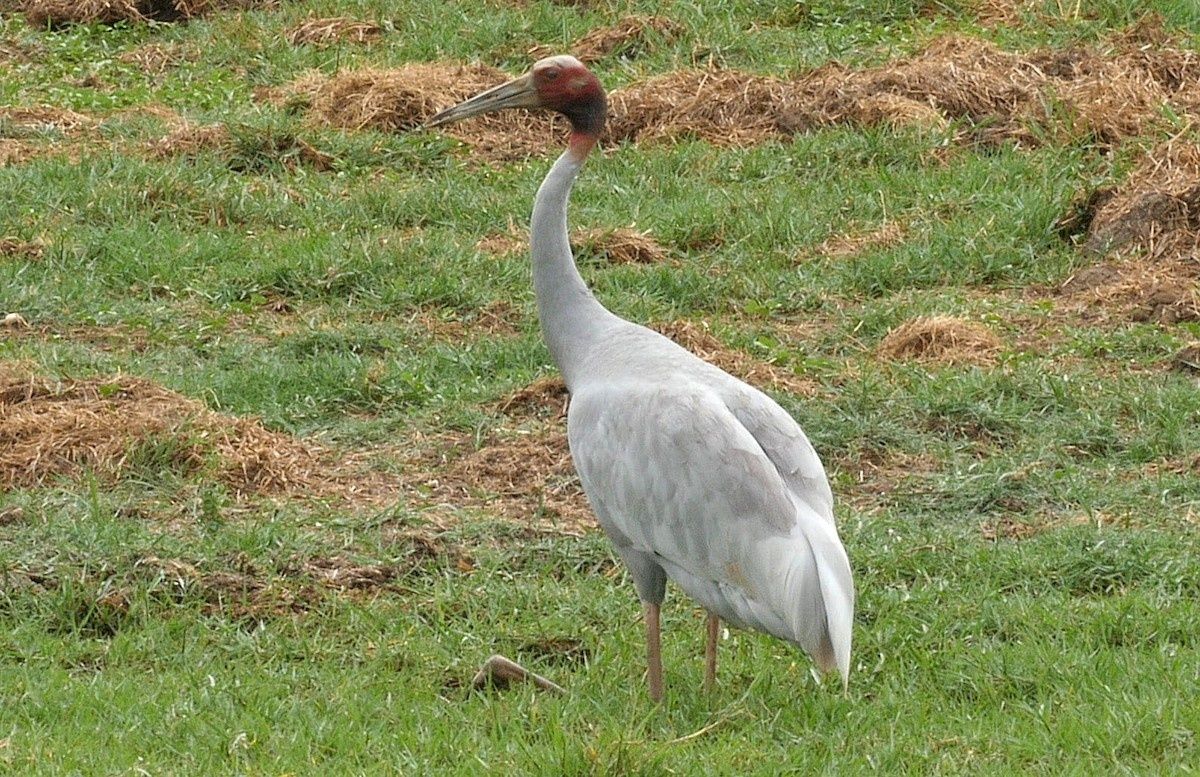crane: (412, 47, 884, 737)
